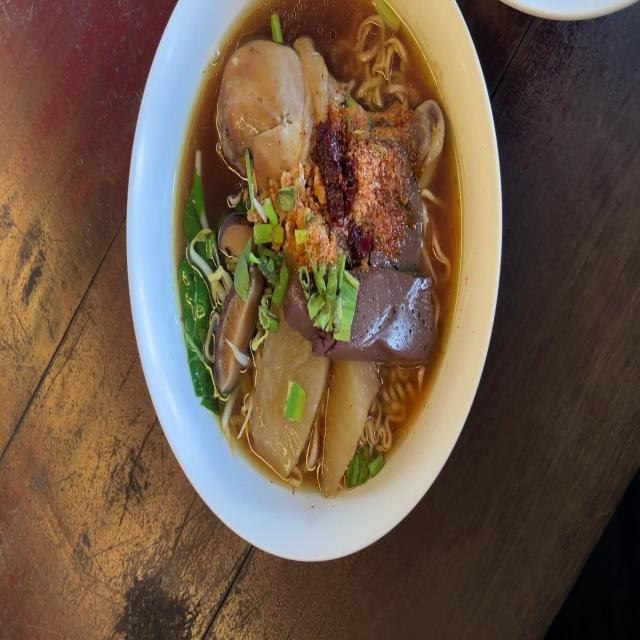noodle: (168, 0, 460, 494)
